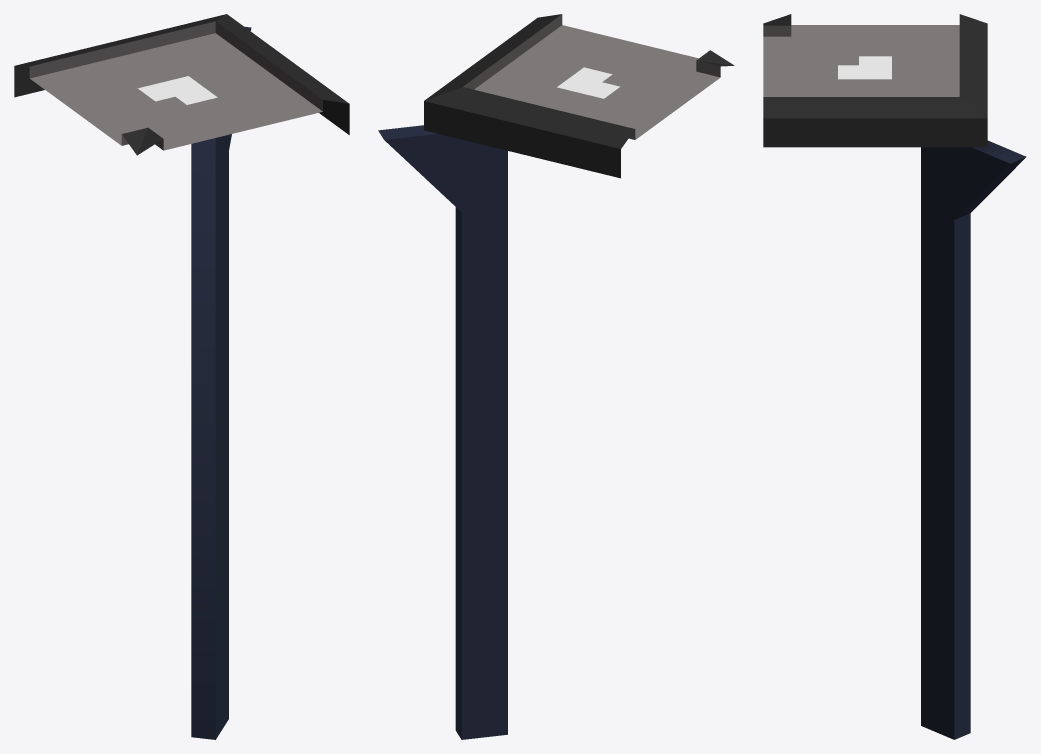
The model's file is road_corner_type_03.fbx.
3 renders of one model, left to right at view 1: azimuth 30°, elevation 25°; view 2: azimuth 150°, elevation 25°; view 3: azimuth 270°, elevation 25°, orthographic. The views are drawn at different scales.
Visible parts, largest first — view 1: road_corner_type_03; view 2: road_corner_type_03; view 3: road_corner_type_03.
Boxes of the visible parts, <box> form: road_corner_type_03: <box>14,14,349,739</box>; road_corner_type_03: <box>378,14,734,739</box>; road_corner_type_03: <box>763,14,1026,739</box>.
Bounding box in the file's own units: 392 × 1048 × 392.
Materials: 1 (1 with a texture image).
